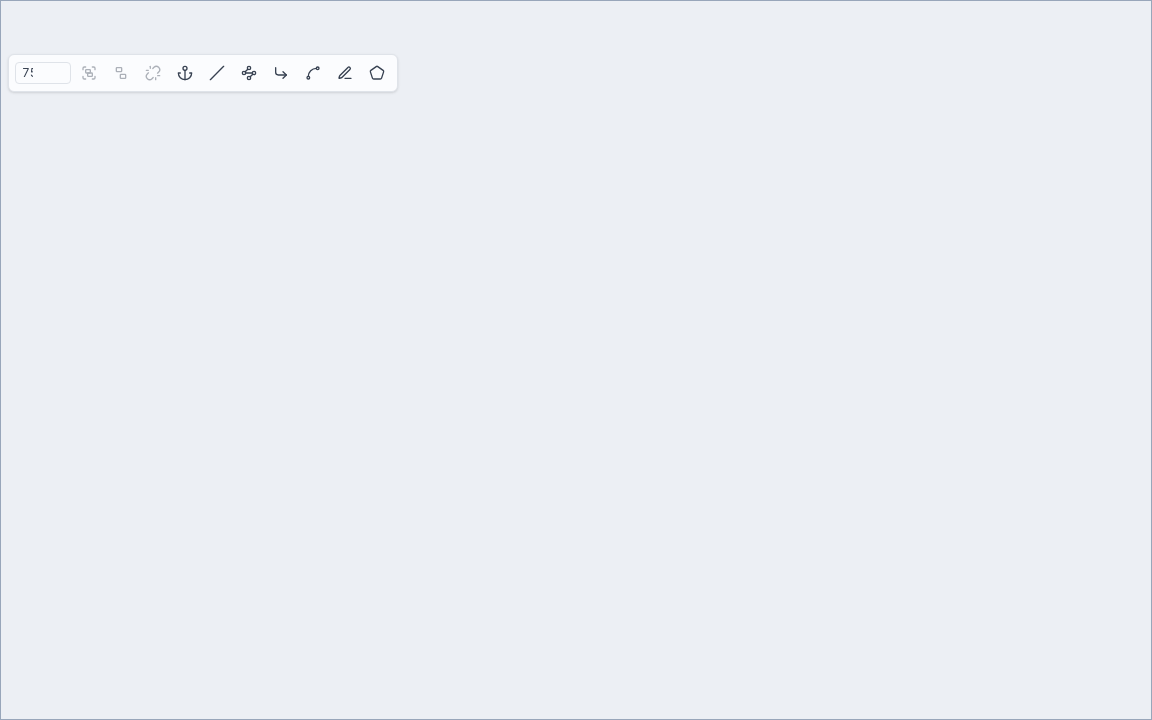
Scenario: 부품을 고르면 목록이 **그 그룹 행**을 펼친다 › 최상위 요소에서는 그 요소의 id 그대로다
The width and height of the screenshot is (1152, 720).
Press the mouse on the element with test id "canvas-edit-overlay" at x=576, y=360, box 0,0 -> 1151,719
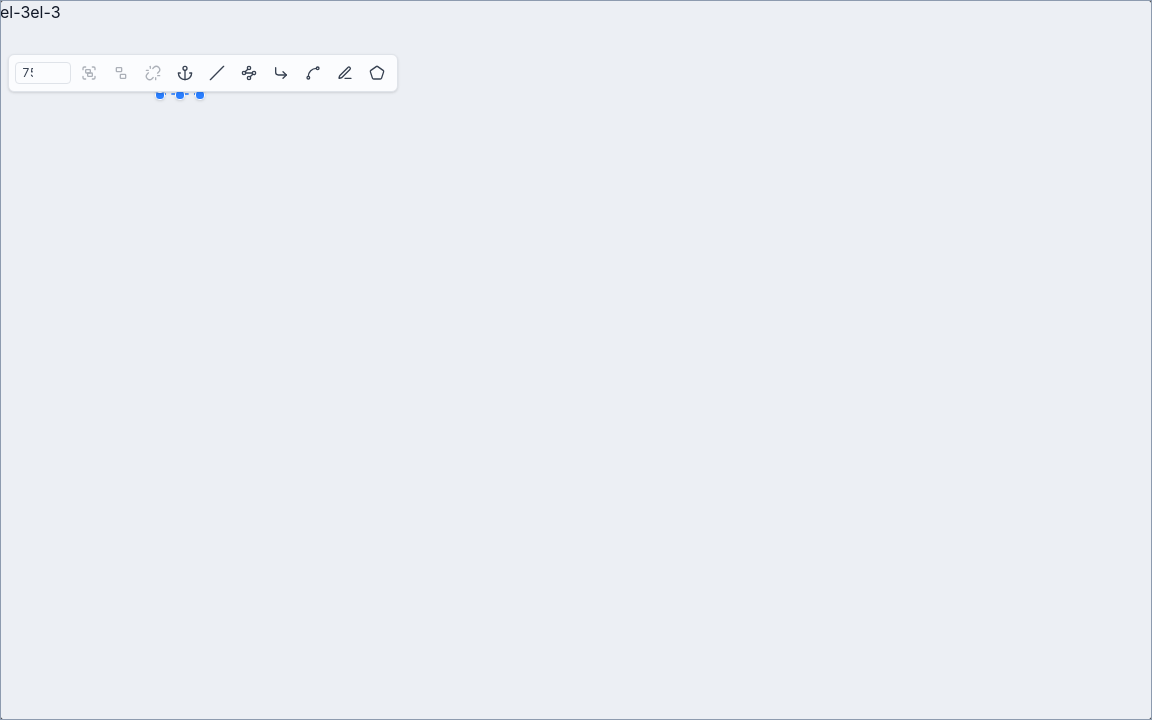
Expected: the text with test id "auto-expanded" reads "el-3", 30,2 -> 61,22
